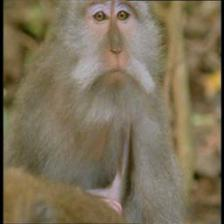monkey: (63, 0, 150, 95)
